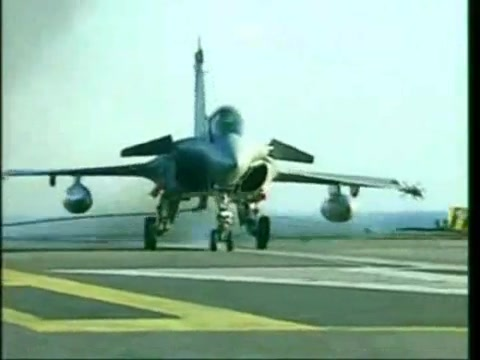aeroplane: (2, 38, 426, 252)
